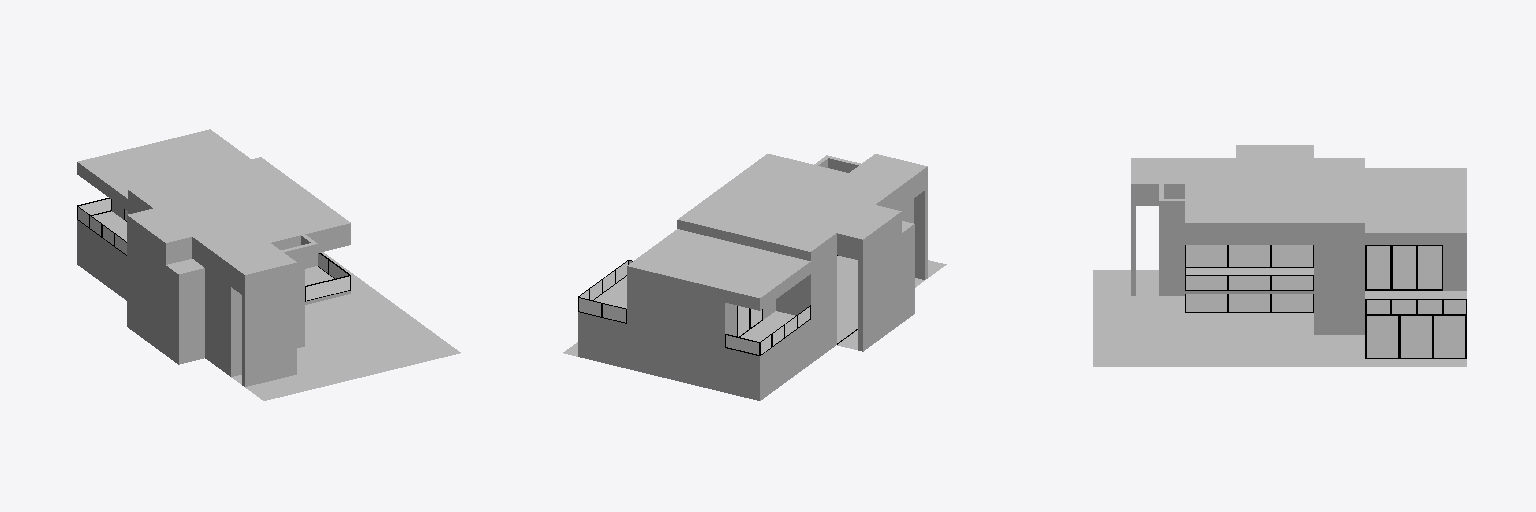
File: house1.obj
3 renders of one model, left to right at view 1: azimuth 30°, elevation 25°; view 2: azimuth 150°, elevation 25°; view 3: azimuth 270°, elevation 25°, orthographic.
Parts seen in each view (by area): view 1: Plane, Plane.030, Plane.036, Plane.073, Plane.004; view 2: Plane, Plane.036, Plane.051; view 3: Plane, Plane.030, Plane.004, Plane.073, Plane.010, Plane.011, Plane.012, Plane.015, Plane.013, Plane.014, Plane.001, Plane.002 (+4 smaller).
Part boxes in pixels (x1,y1,x2,y2): Plane: (77, 129, 350, 386); Plane.030: (231, 252, 460, 400); Plane.036: (127, 215, 152, 345); Plane.073: (297, 347, 349, 387); Plane.004: (305, 253, 350, 301); Plane: (578, 154, 927, 400); Plane.036: (858, 220, 888, 351); Plane.051: (837, 256, 857, 342); Plane: (1131, 145, 1466, 334); Plane.030: (1093, 270, 1466, 366); Plane.004: (1185, 253, 1313, 290); Plane.073: (1093, 296, 1184, 312); Plane.010: (1367, 316, 1397, 357); Plane.011: (1401, 316, 1431, 357); Plane.012: (1434, 316, 1464, 357); Plane.015: (1418, 246, 1441, 288); Plane.013: (1367, 246, 1389, 288); Plane.014: (1393, 246, 1415, 288); Plane.001: (1272, 245, 1312, 266); Plane.002: (1229, 245, 1269, 266).
Bounding box in the file's own units: 9.6 × 4.59 × 13.86.